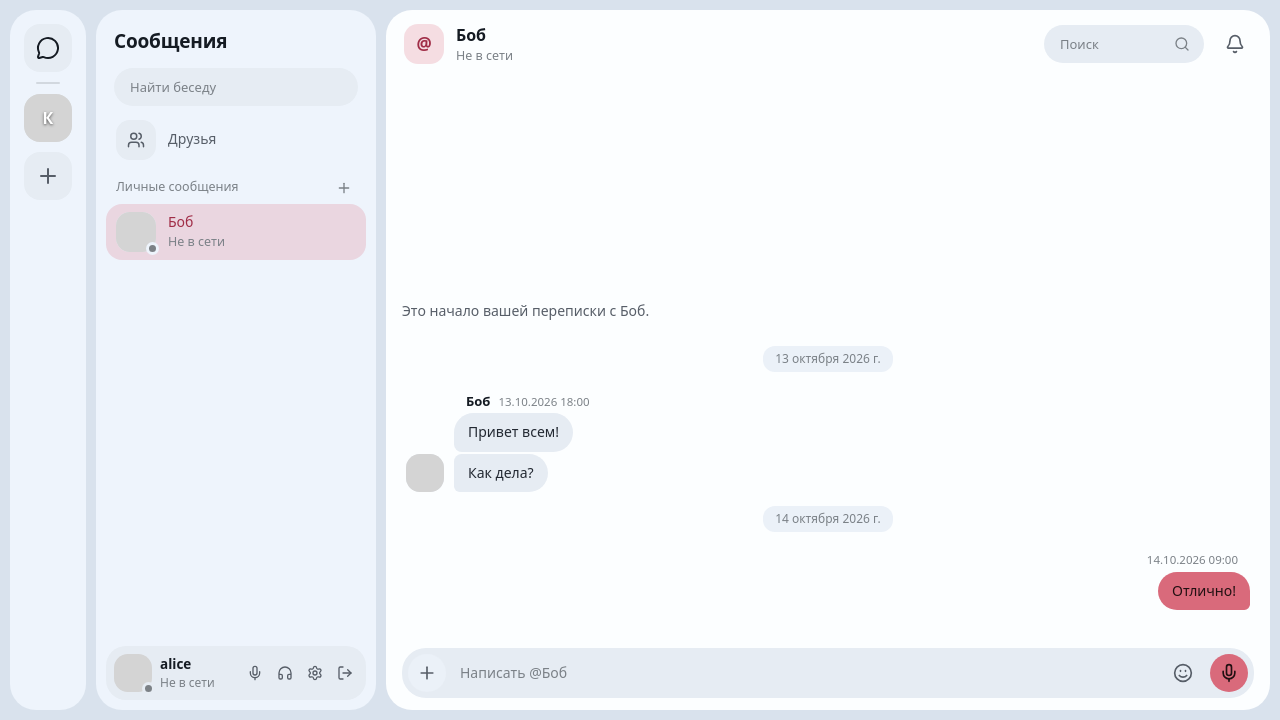
it: profile card › says so in the card when the server answers a secret chat with a plain one
The width and height of the screenshot is (1280, 720).
Click the button "Боб". click: (478, 401)
box: left=466, top=392, right=490, bottom=410
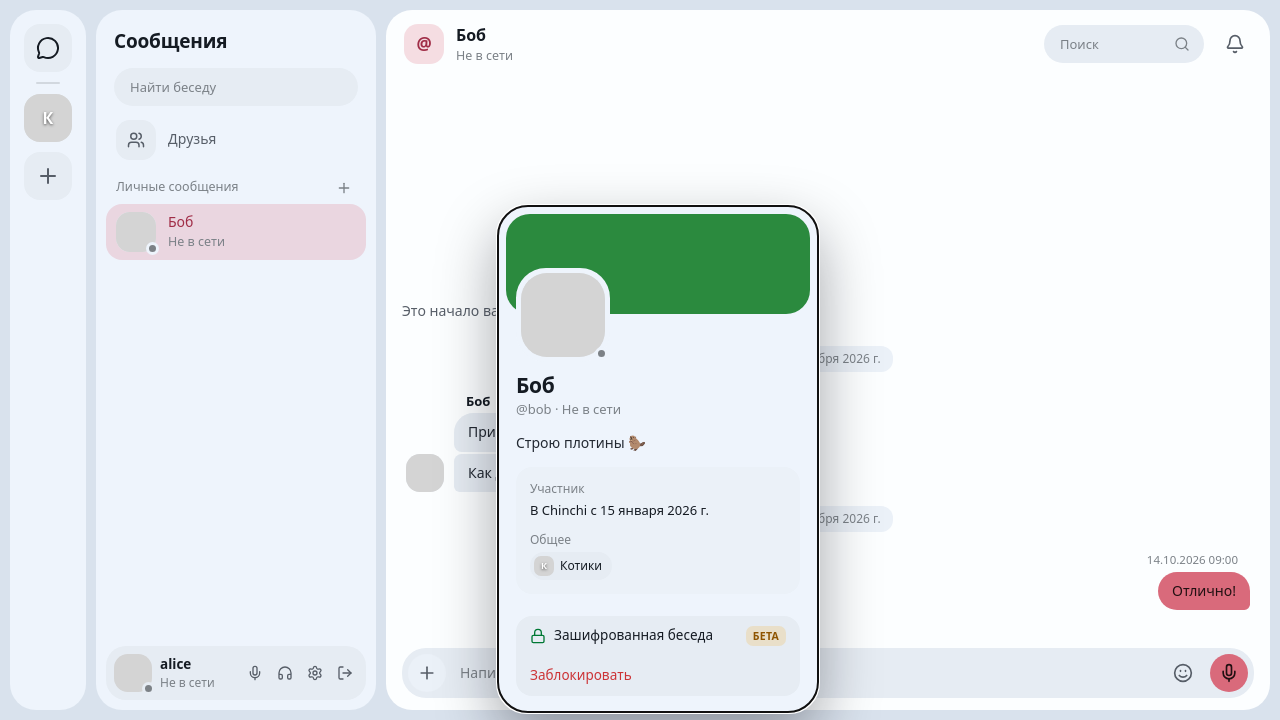
Click the button "Зашифрованная беседа бета". click: (658, 636)
box: left=516, top=616, right=800, bottom=656
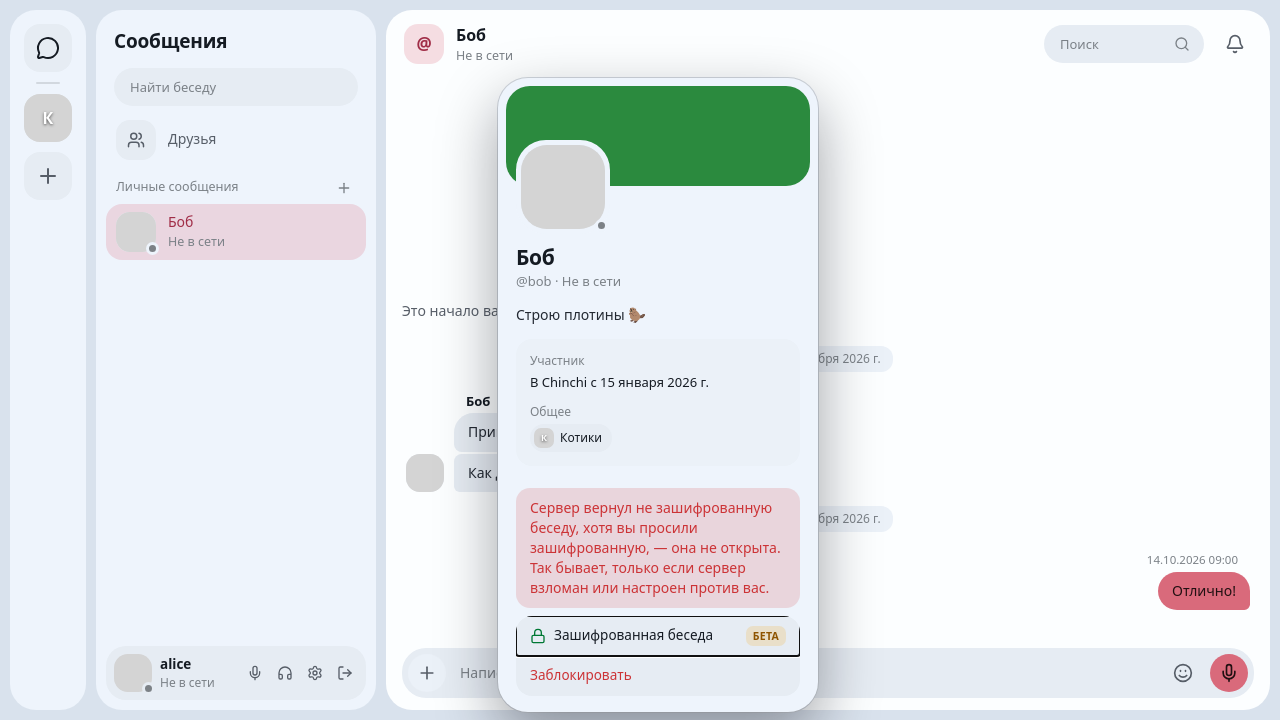
Expected: the message shows "не зашифрованную", left=530, top=498, right=781, bottom=597
